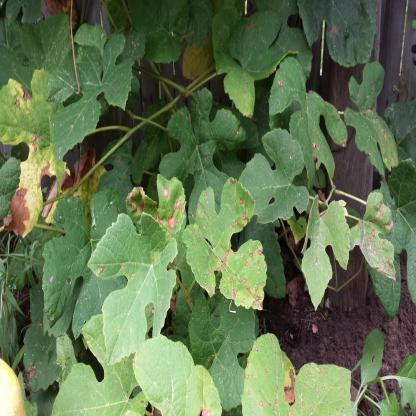grape leaf: (83, 211, 183, 372), (182, 177, 271, 312), (236, 328, 356, 416), (268, 65, 346, 178), (224, 10, 294, 122), (342, 62, 402, 178), (348, 183, 404, 293)
